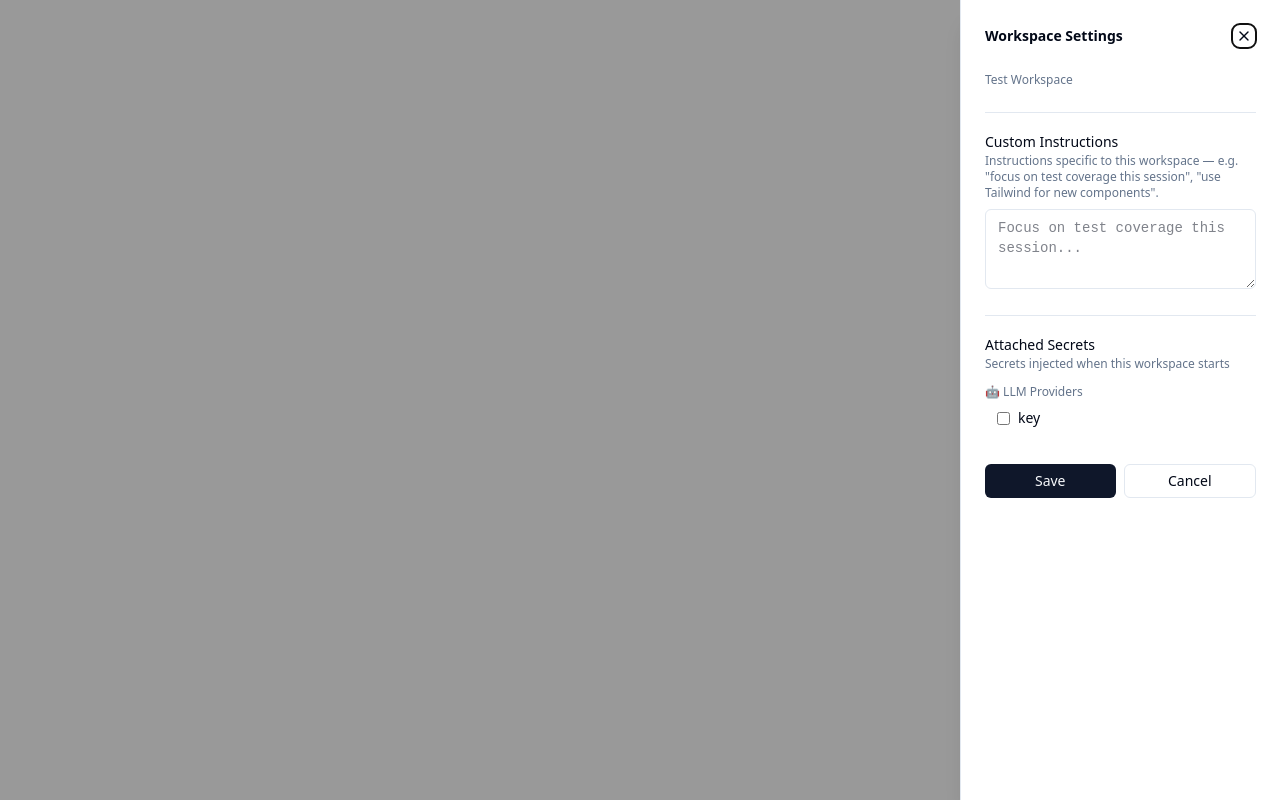
Test case: WorkspaceSettingsDrawer › disables save button while saving
Expected: the text "key" is shown, [1018,408,1040,428]
Click the checkbox labelled "key" at coordinates (1004, 418), box [997,412,1010,424]
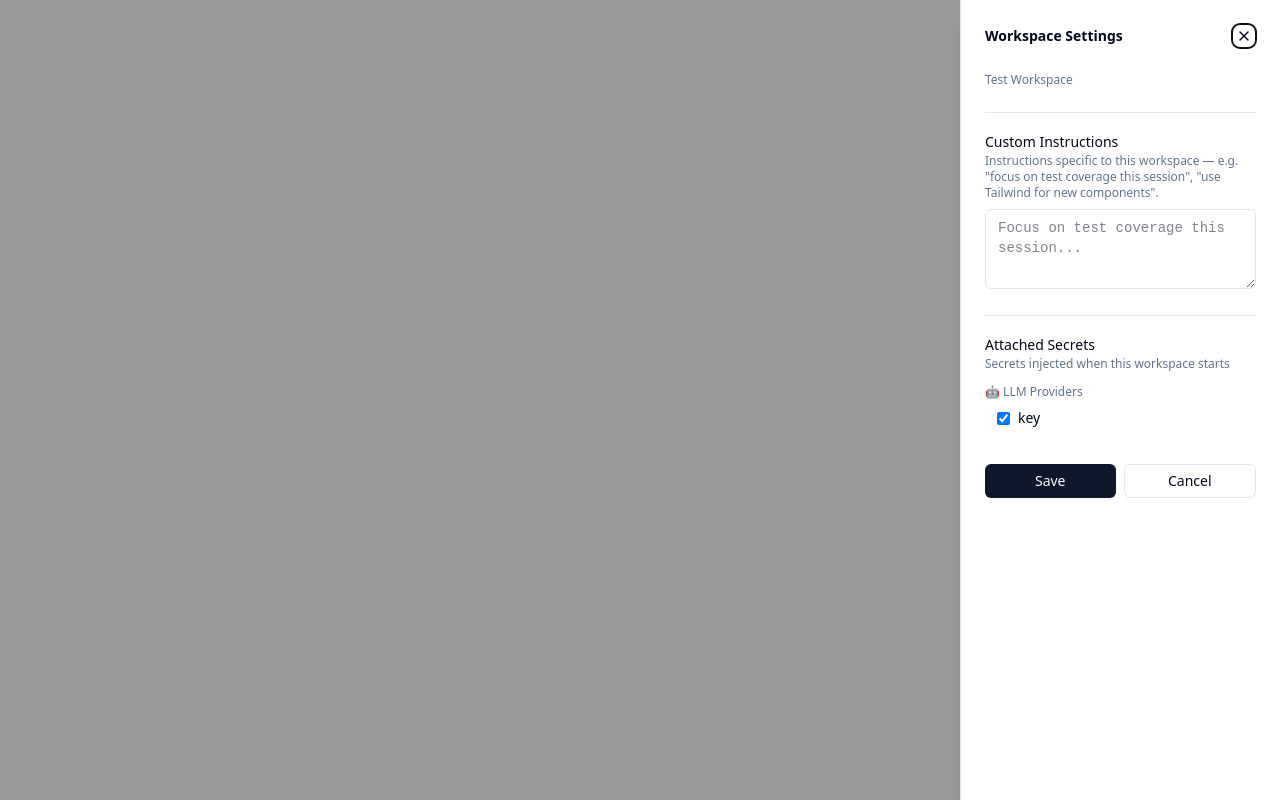
Click the button "Save" at coordinates (1050, 481), box [985,464,1116,498]
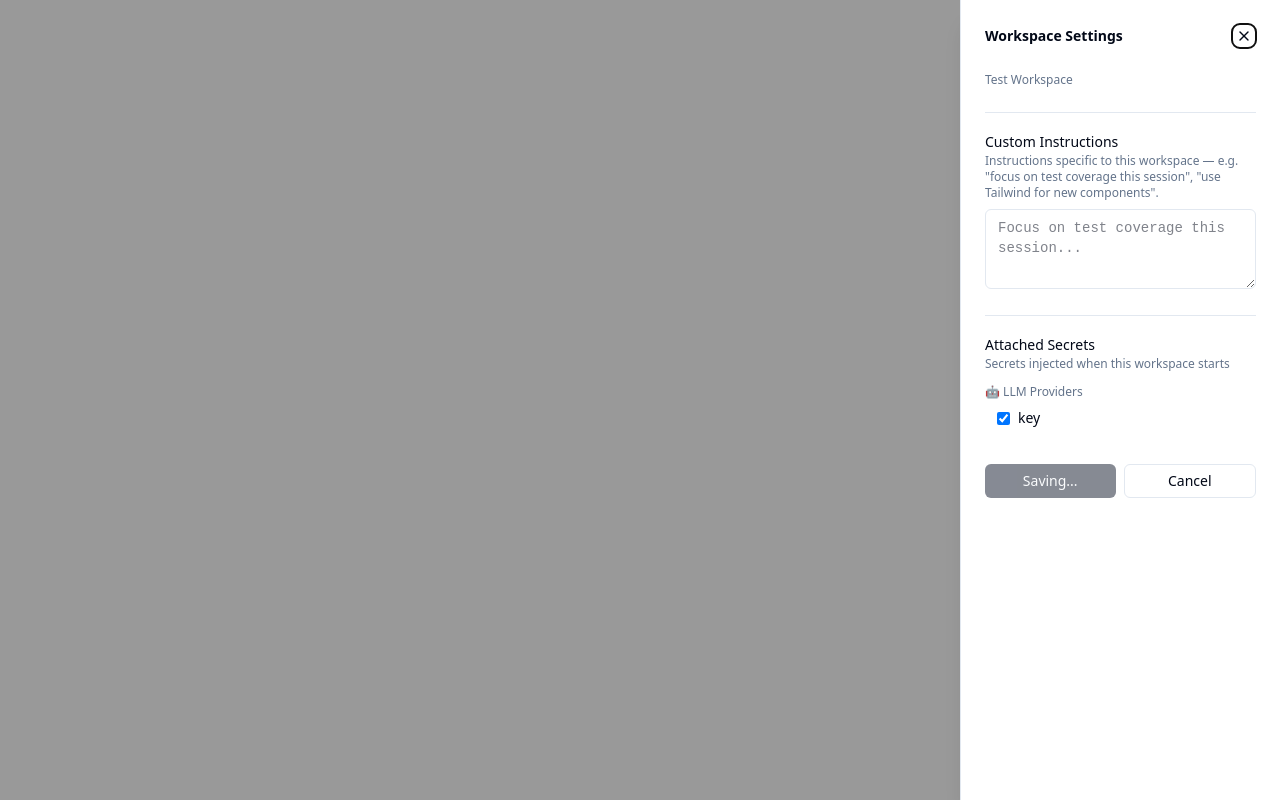
Expected: the button "Saving..." is shown, [985,464,1116,498]
